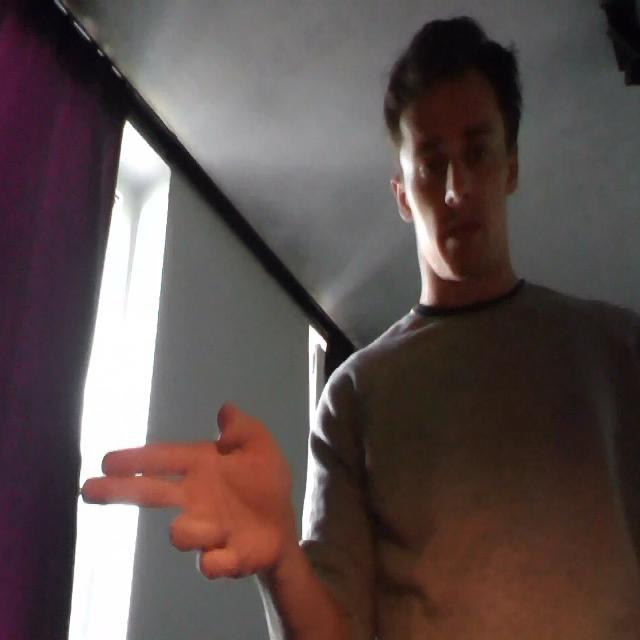left: (73, 397, 298, 583)
